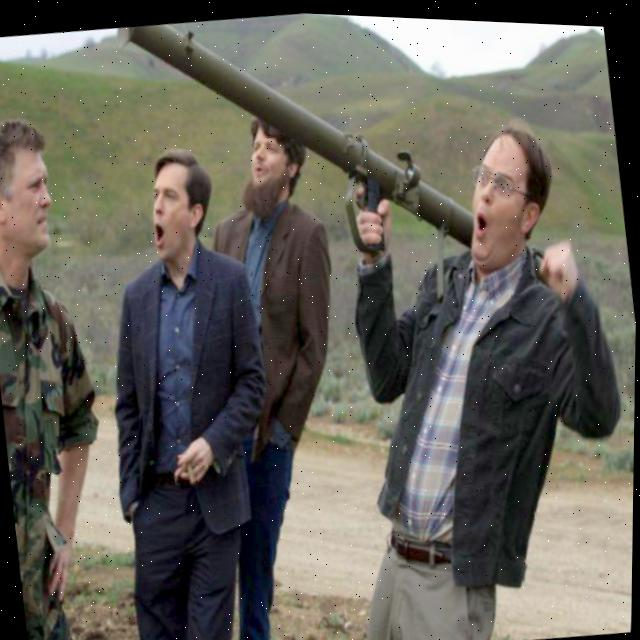rocket: (81, 3, 519, 291)
